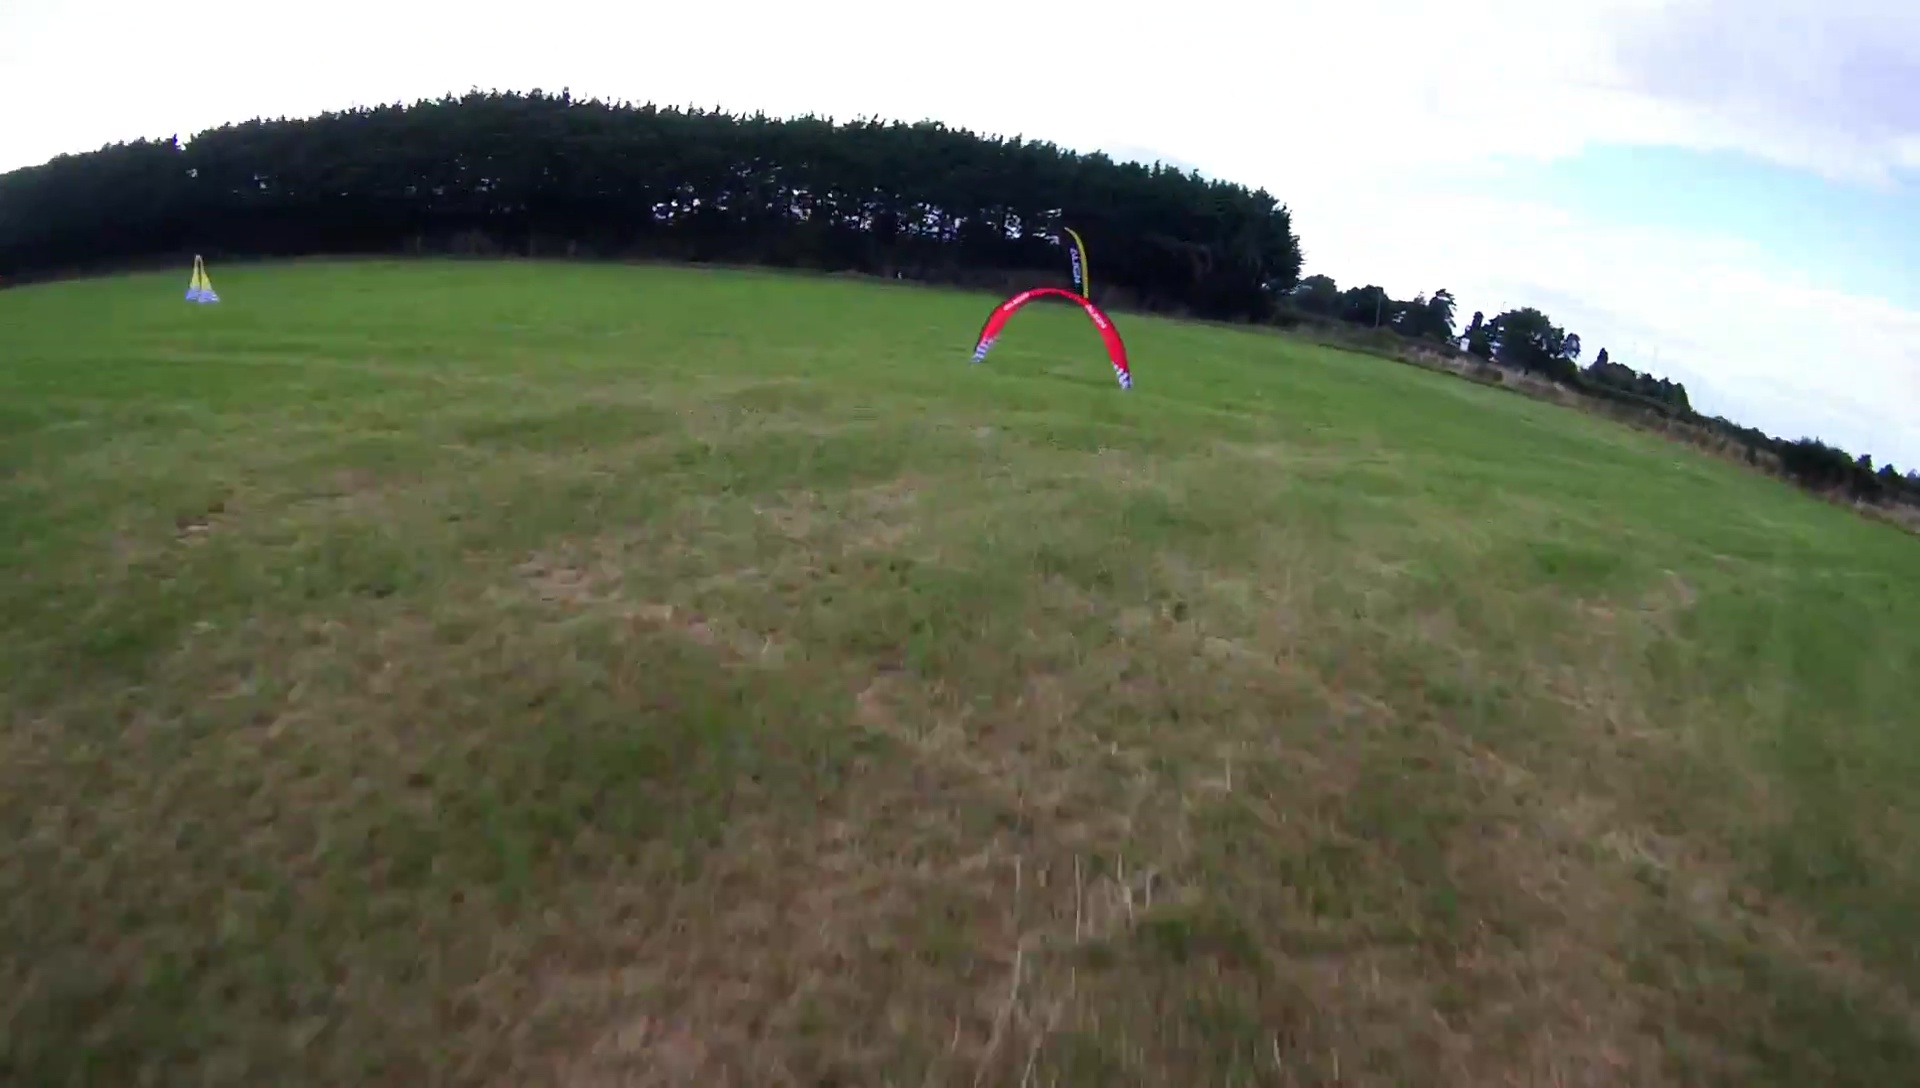gate: (968, 286, 1133, 390)
